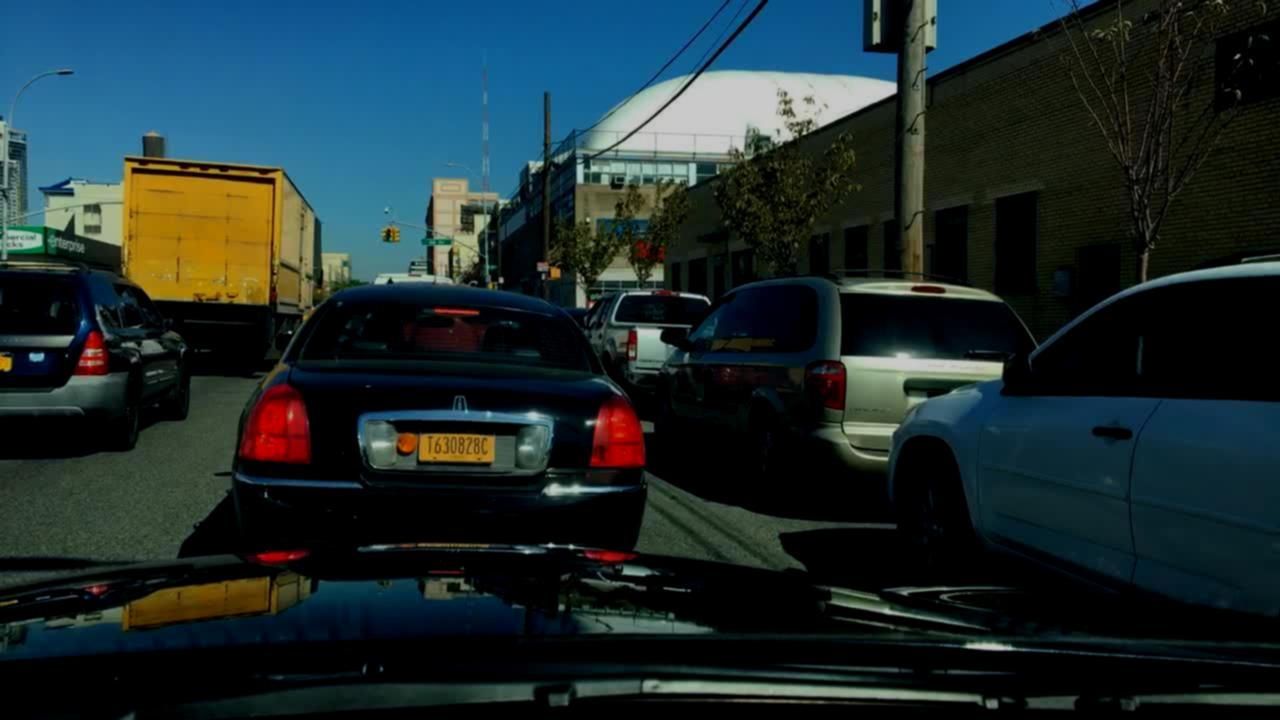lincoln: (451, 394, 473, 420)
